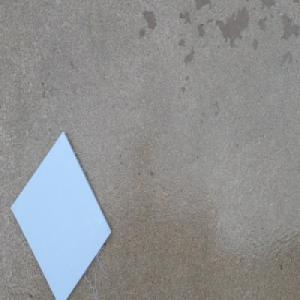PaintChip: (9, 129, 113, 300)
